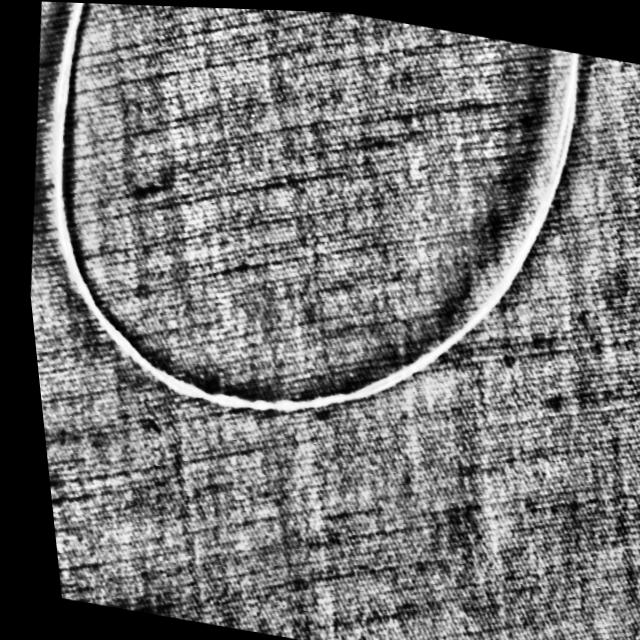Stitch: (2, 0, 617, 471)
